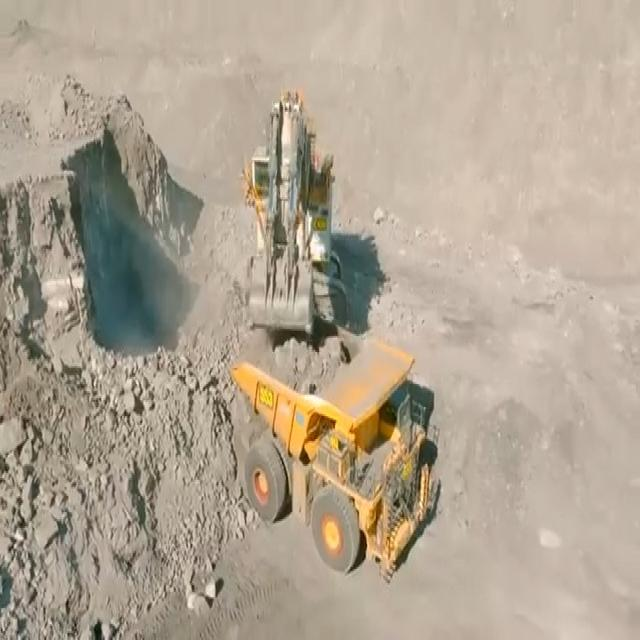dump_truck: (235, 357, 438, 577)
excavator: (234, 79, 336, 341)
